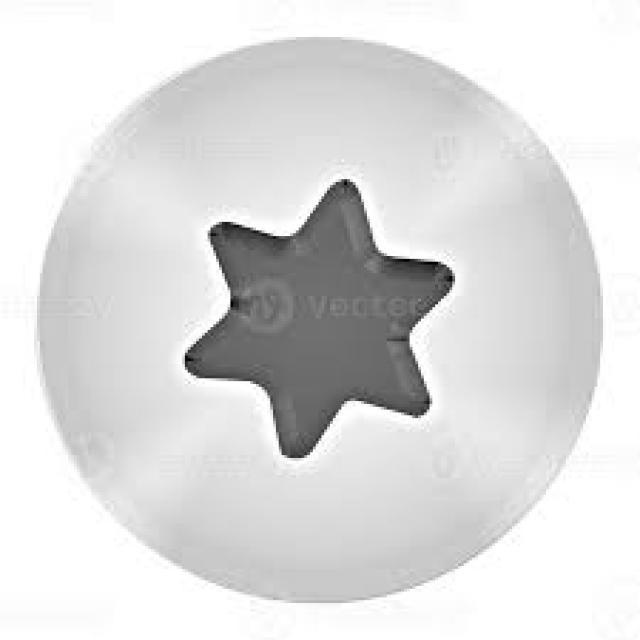torx: (36, 35, 605, 605)
